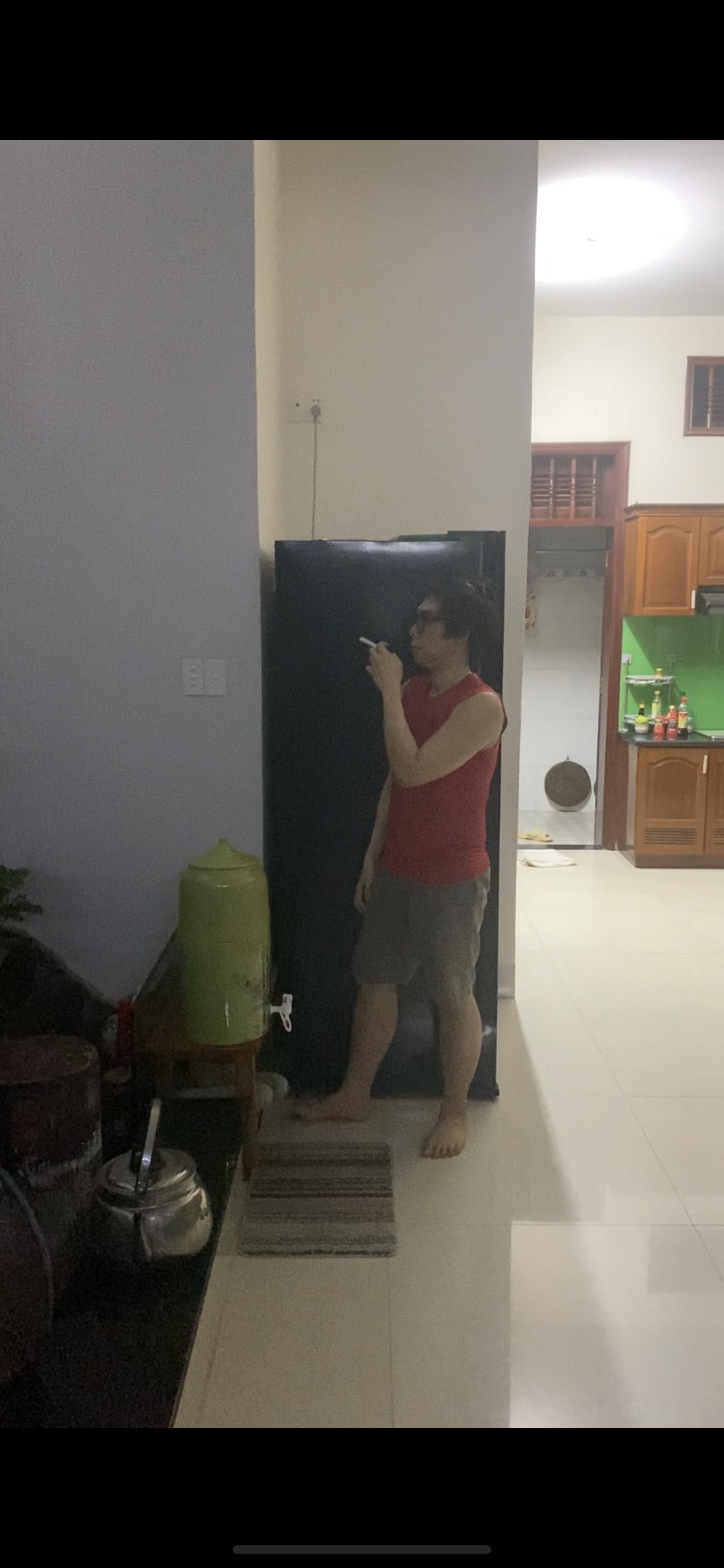cigarette: (355, 633, 379, 650)
person: (347, 577, 505, 1159)
